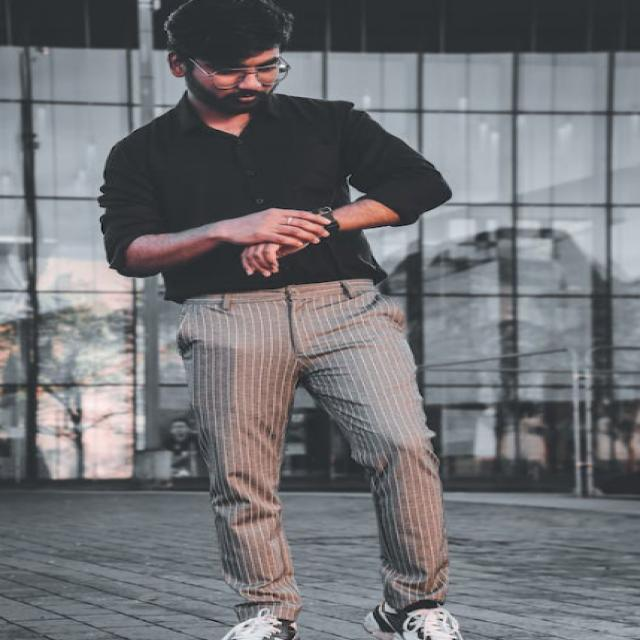Watch: (308, 203, 346, 240)
